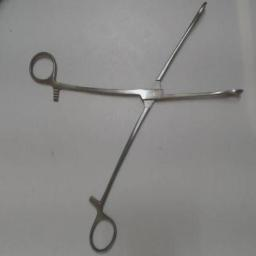Sponge Forceps: (26, 1, 248, 253)
